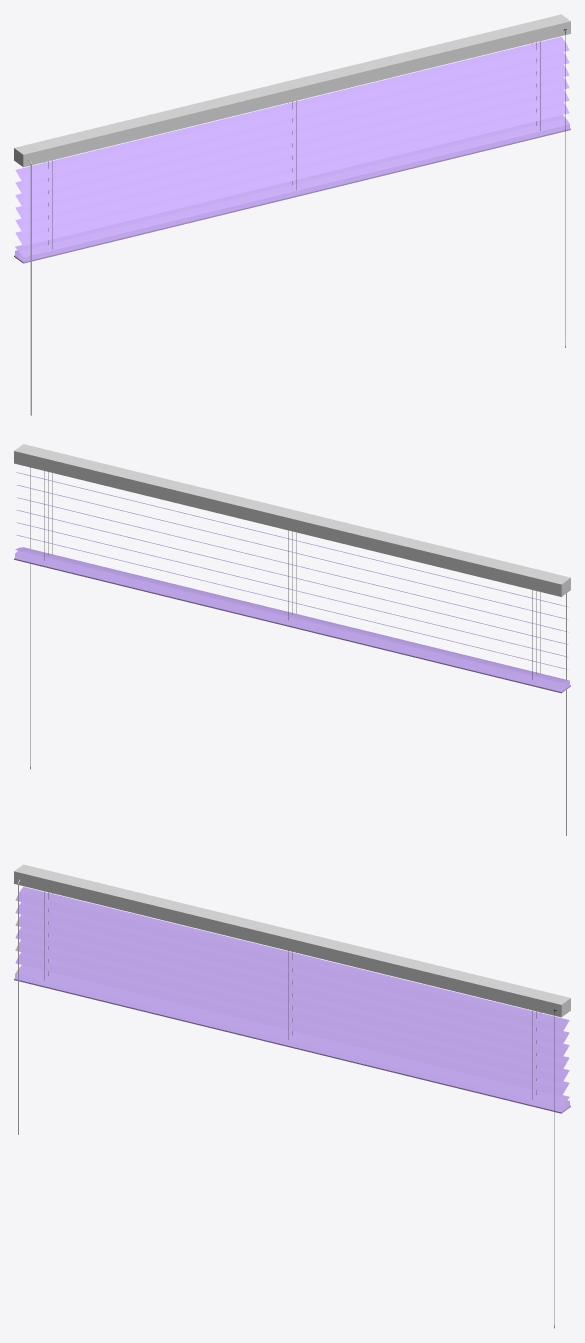
Rendered from blinds.fbx.
3 renders of one model, top to bottom at view 1: azimuth 30°, elevation 25°; view 2: azimuth 150°, elevation 25°; view 3: azimuth 330°, elevation 25°, orthographic.
Parts seen in each view (by area): view 1: Venetian_slats, VenetianFrame, Venetian_base, Venetian_stick; view 2: VenetianFrame, Venetian_slats, Venetian_base; view 3: Venetian_slats, VenetianFrame, Venetian_base.
Boxes of the visible parts, left/top/right/bottom form: Venetian_slats: left=15, top=37, right=569, bottom=261; VenetianFrame: left=14, top=14, right=570, bottom=167; Venetian_base: left=14, top=128, right=570, bottom=263; Venetian_stick: left=28, top=159, right=31, bottom=415; VenetianFrame: left=14, top=444, right=570, bottom=596; Venetian_slats: left=15, top=472, right=569, bottom=691; Venetian_base: left=14, top=558, right=570, bottom=693; Venetian_slats: left=15, top=887, right=569, bottom=1111; VenetianFrame: left=14, top=864, right=570, bottom=1017; Venetian_base: left=14, top=978, right=570, bottom=1113.
Bounding box in the file's own units: 274 × 155 × 9.99.
